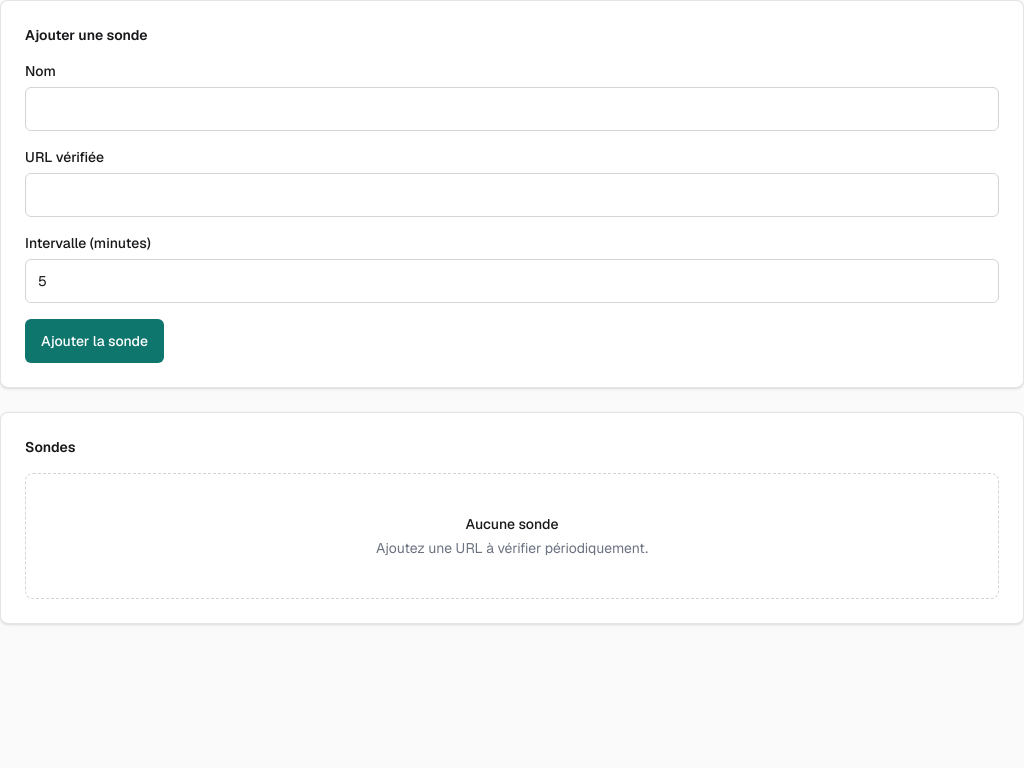
Test: StatusProbesPage › cree une nouvelle sonde
Expected: the text "Aucune sonde" is shown, [466, 514, 558, 534]
Type "Site" into the field labelled "Nom".
click(512, 109); type("Site")  # box [25, 87, 999, 131]
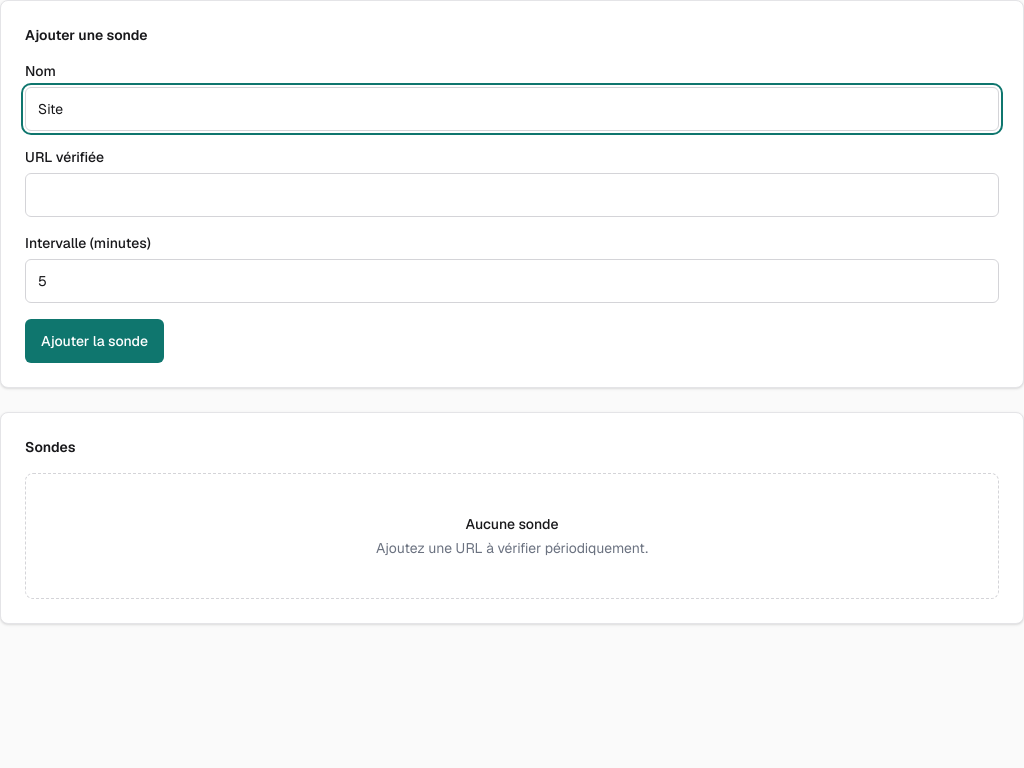
Type "https://exemple.fr" into the field labelled "URL vérifiée".
click(512, 195); type("https://exemple.fr")  # box [25, 173, 999, 217]
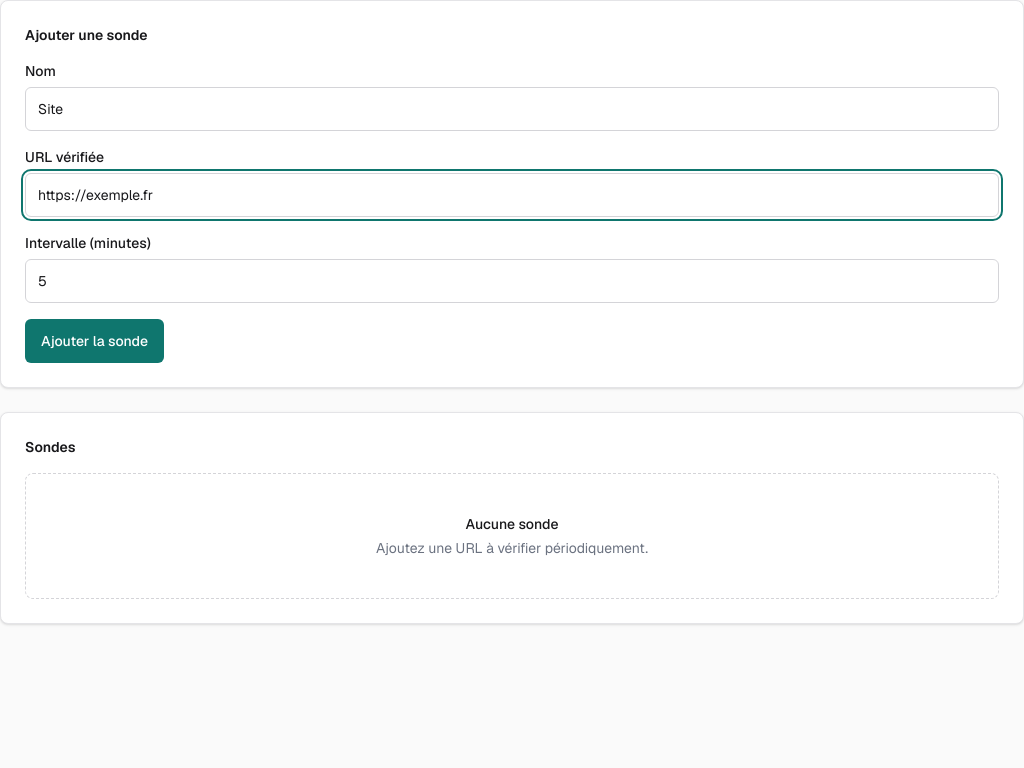
Click the button "Ajouter la sonde".
click(94, 341)  # box [25, 319, 164, 363]
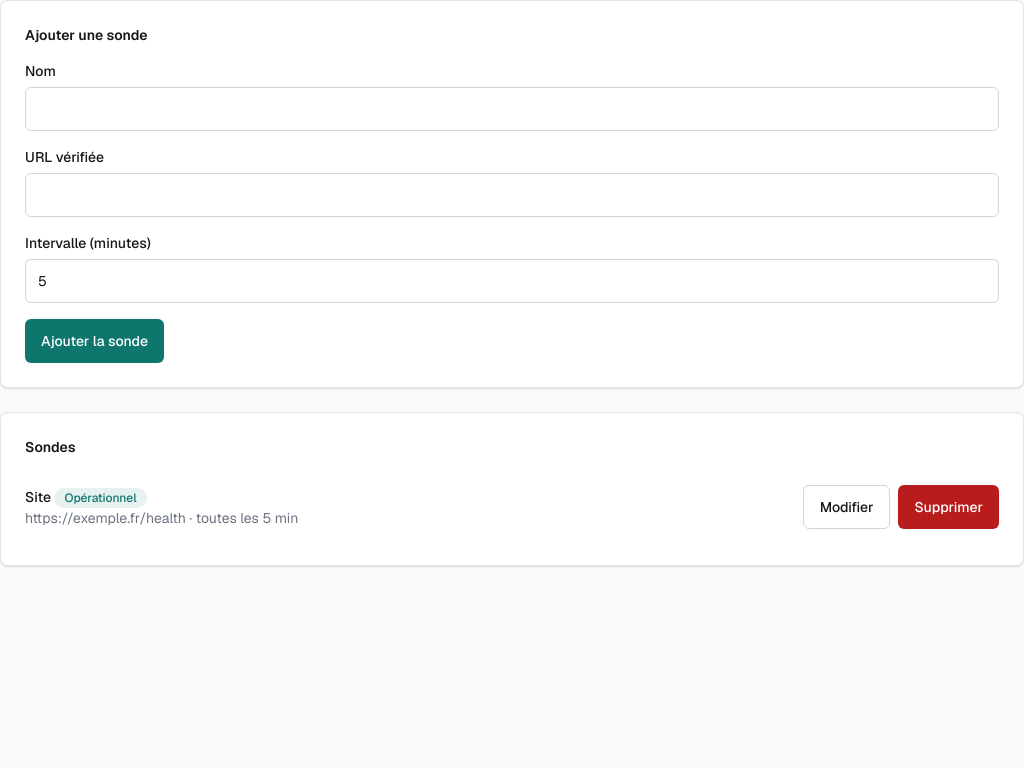
Now the text "Site" is shown, box [25, 488, 51, 506]
